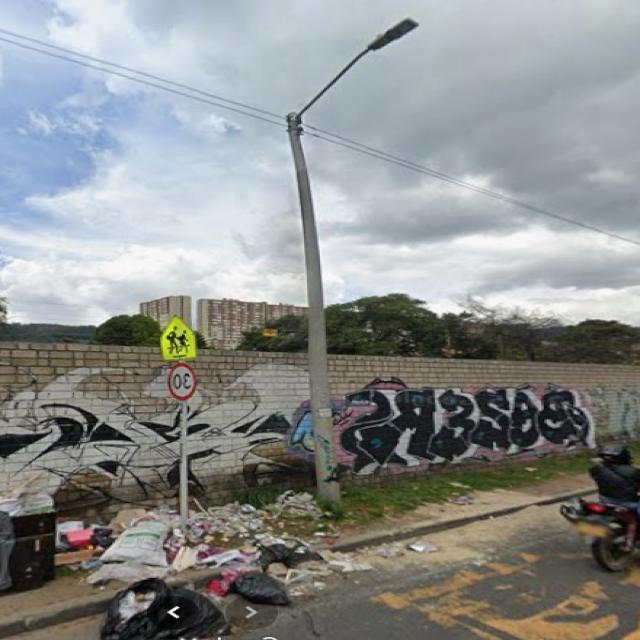Fachada: (198, 298, 307, 348), (140, 296, 191, 327)
Poste: (288, 21, 417, 505)
